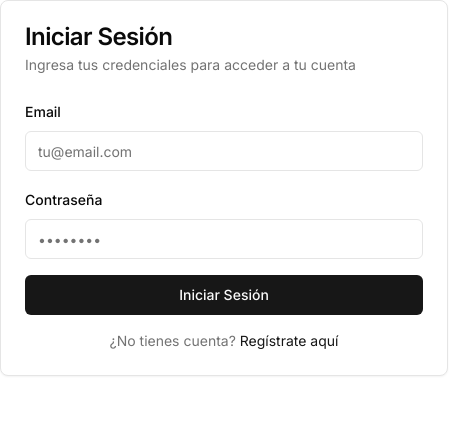
Test: LoginForm › shows error message when login fails
Type "test@example.com" into the field labelled "Email" at (224, 151), box [25,131,423,171]
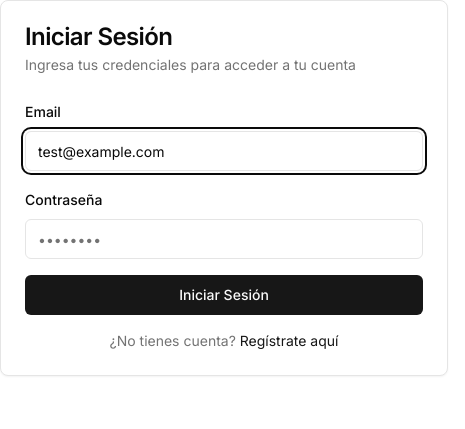
Type "wrongpassword" into the password field labelled "Contraseña" at (224, 239), box [25,219,423,259]
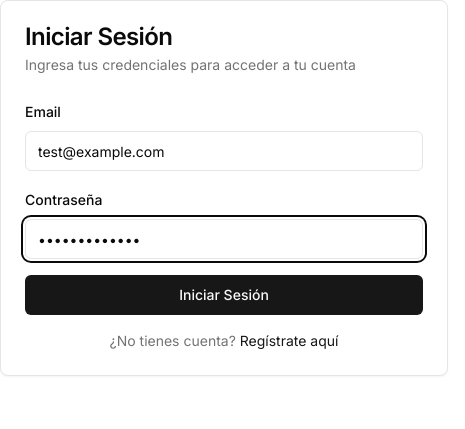
Click the button "Iniciar Sesión" at (224, 295), box [25,275,423,315]
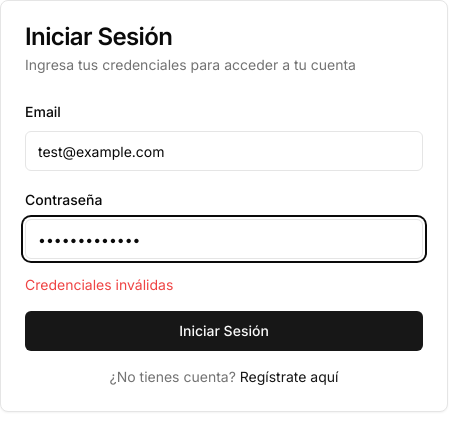
expect the text "Credenciales inválidas" is shown: met, box [25,276,173,293]
